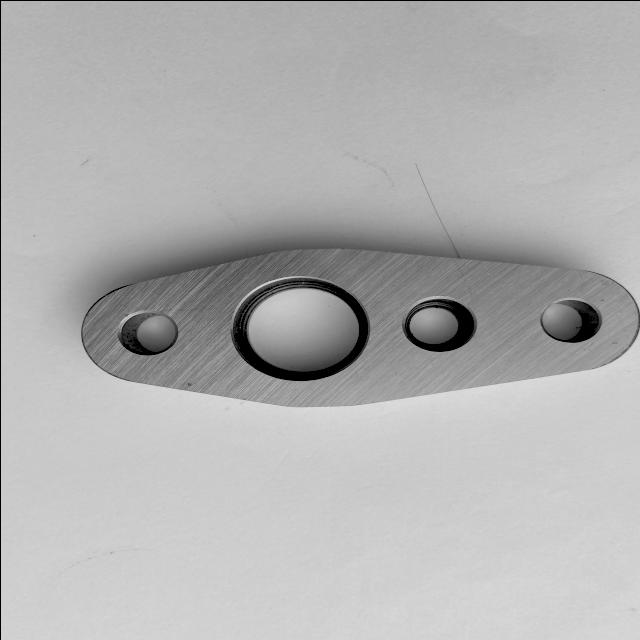chap: (608, 340, 620, 344), (597, 297, 605, 301)
lines: (452, 262, 482, 298), (183, 378, 201, 388)
